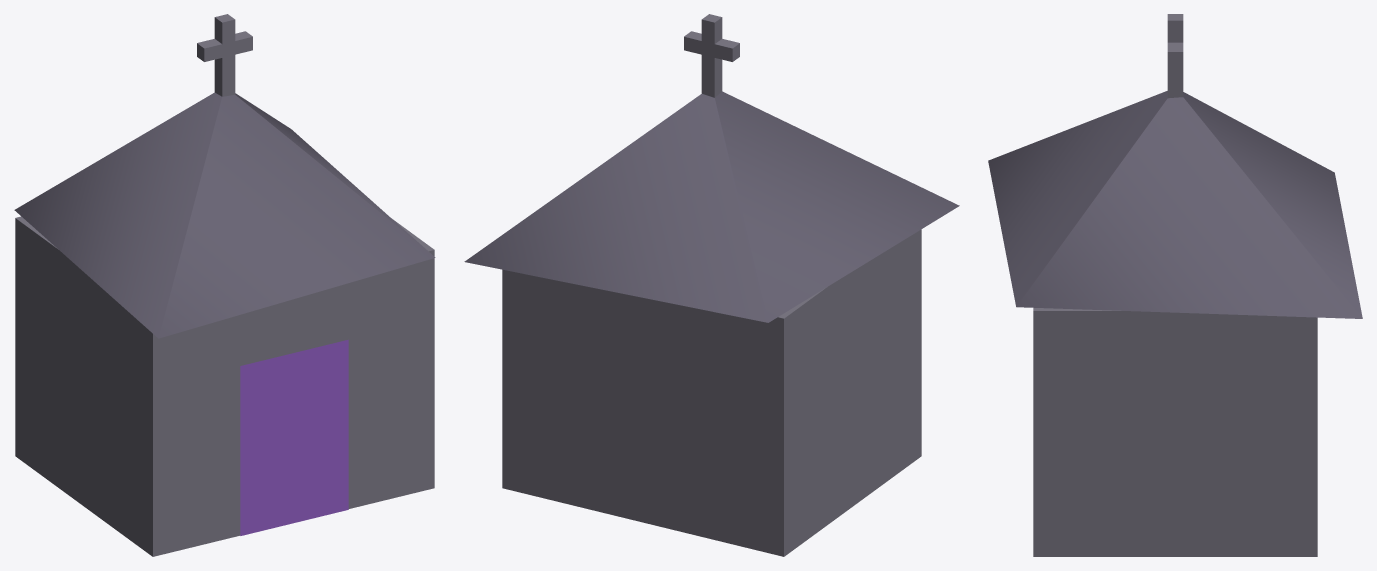
File: cripta-referencia.glb
3 views of the same model, side by side, from view 1: azimuth 30°, elevation 25°; view 2: azimuth 150°, elevation 25°; view 3: azimuth 270°, elevation 25° (orthographic). The views are drawn at different scales.
Parts seen in each view (by area): view 1: cripta-1, cripta-2, cripta-3, cripta-4, cripta-5; view 2: cripta-1, cripta-2, cripta-4, cripta-5; view 3: cripta-1, cripta-2, cripta-4.
Part boxes in pixels (x1,y1,x2,y2): cripta-1: (15,216,434,556); cripta-2: (14,92,435,338); cripta-3: (240,339,348,535); cripta-4: (214,14,235,96); cripta-5: (197,31,252,61); cripta-1: (502,229,921,556); cripta-2: (464,91,959,322); cripta-4: (701,14,722,97); cripta-5: (684,31,739,61); cripta-1: (1033,307,1317,556); cripta-2: (988,91,1362,318); cripta-4: (1167,14,1183,98).
Bounding box in the file's own units: 2.9 × 4 × 2.9.
